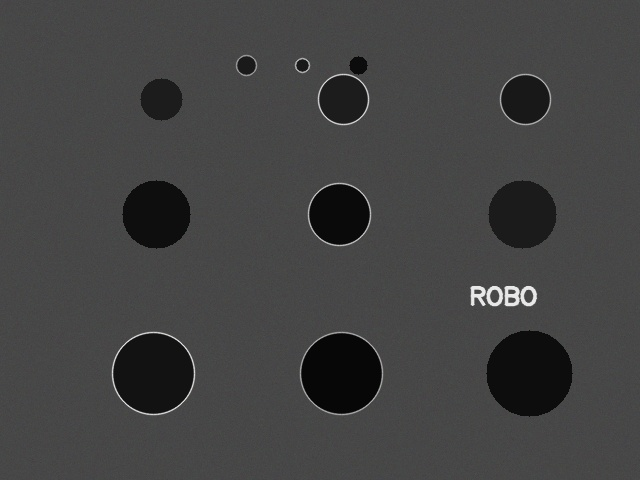hole: (486, 330, 572, 416), (112, 332, 194, 414), (300, 332, 382, 414), (122, 180, 190, 248), (488, 180, 556, 248), (308, 183, 370, 245), (318, 74, 368, 124), (500, 74, 550, 124), (140, 78, 182, 120), (236, 55, 256, 75), (349, 56, 367, 74), (295, 58, 309, 72)
